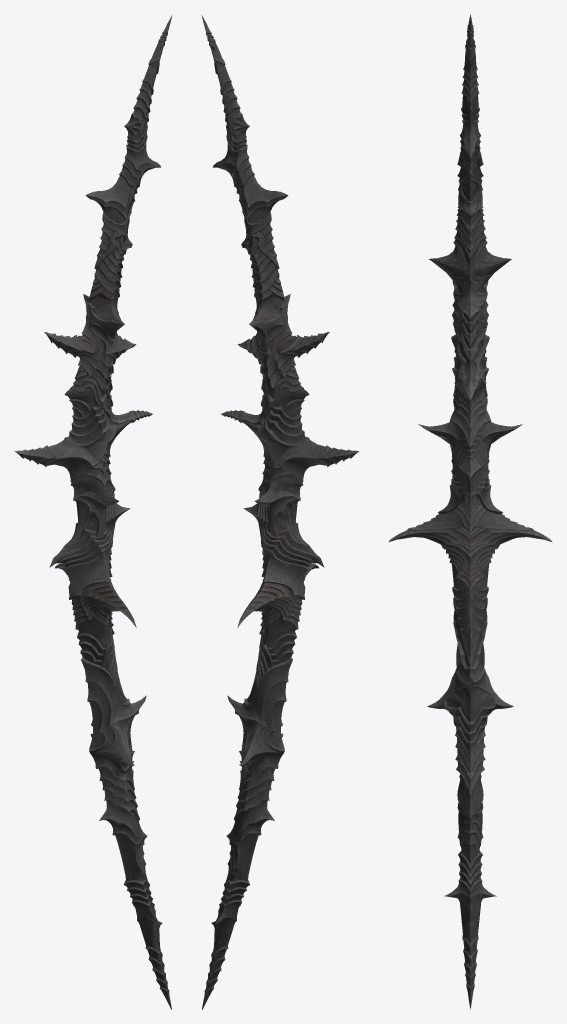
File: bg_rad_kamen_pillar02_sm_hhk.obj
3 views of the same model, side by side, from view 1: azimuth 30°, elevation 25°; view 2: azimuth 150°, elevation 25°; view 3: azimuth 270°, elevation 25° (orthographic).
Visible parts, largest first — view 1: bg_rad_kamen_pillar02_sm_hhk_0; view 2: bg_rad_kamen_pillar02_sm_hhk_0; view 3: bg_rad_kamen_pillar02_sm_hhk_0.
Part boxes in pixels (x1=…): bg_rad_kamen_pillar02_sm_hhk_0: x1=15, y1=15, x2=172, y2=1009; bg_rad_kamen_pillar02_sm_hhk_0: x1=201, y1=15, x2=358, y2=1009; bg_rad_kamen_pillar02_sm_hhk_0: x1=388, y1=14, x2=552, y2=1009.
Size of the model in its own units: 1.6 by 9.6 by 1.44.
1 material, 1 textured.
